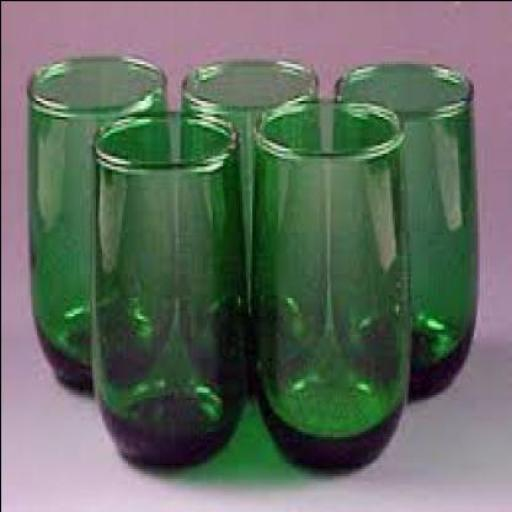glass: (245, 95, 407, 470), (89, 108, 245, 460), (25, 52, 168, 384), (332, 60, 474, 394), (178, 58, 322, 383)
